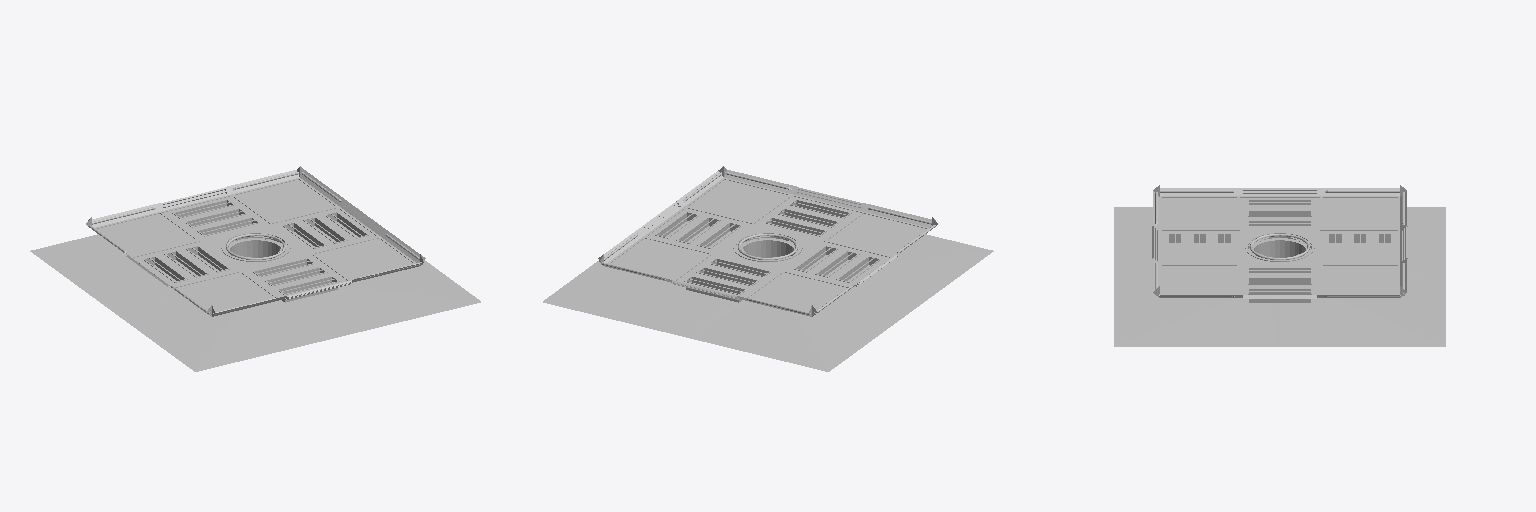
File: wall_zero.obj
The picture shows the model from 3 angles: view 1: azimuth 30°, elevation 25°; view 2: azimuth 150°, elevation 25°; view 3: azimuth 270°, elevation 25°; orthographic projection.
Parts seen in each view (by area): view 1: Wall_low_Cube.001; view 2: Wall_low_Cube.001; view 3: Wall_low_Cube.001, PanelLight__low_Cube.008.
Part boxes in pixels (x1,y1,x2,y2): Wall_low_Cube.001: (30, 166, 480, 371); Wall_low_Cube.001: (543, 166, 993, 371); Wall_low_Cube.001: (1114, 185, 1445, 346); PanelLight__low_Cube.008: (1169, 243, 1390, 259).
Size of the model in its own units: 2.48 by 0.34 by 2.48.